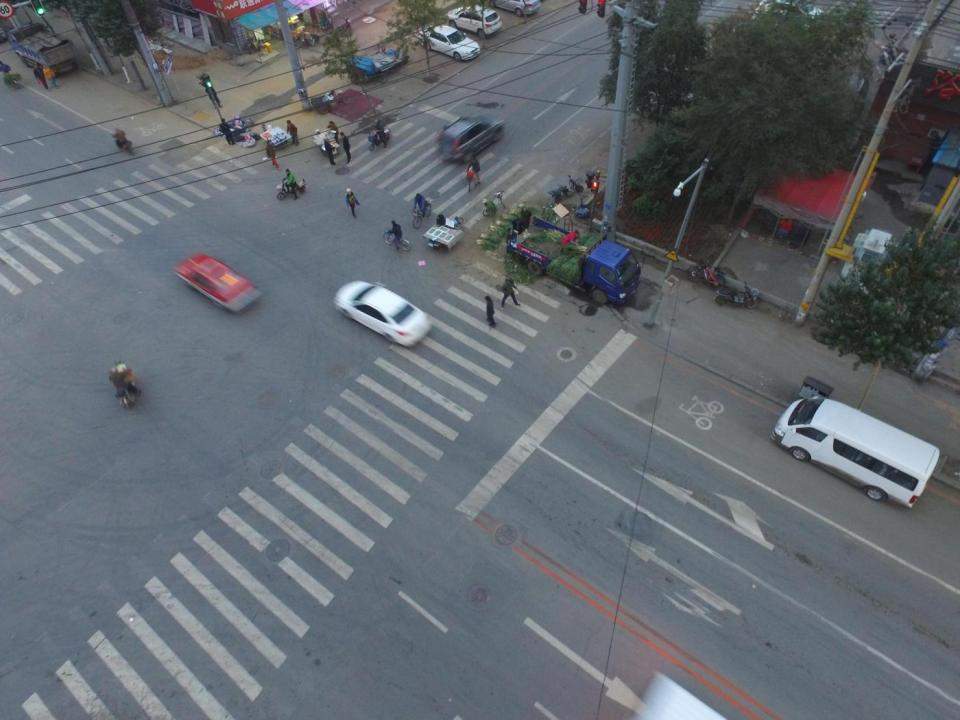car: (335, 279, 432, 348), (174, 252, 262, 315), (420, 21, 481, 61), (825, 72, 870, 126), (448, 5, 502, 39), (494, 0, 541, 19)
truck: (504, 217, 642, 306), (9, 21, 79, 78)
van: (771, 395, 943, 508), (438, 114, 504, 165)
